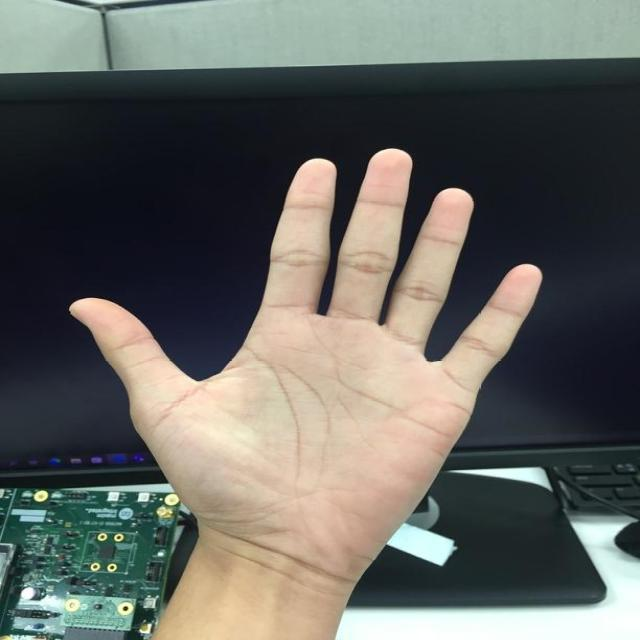no-gloves: (64, 146, 538, 574)
